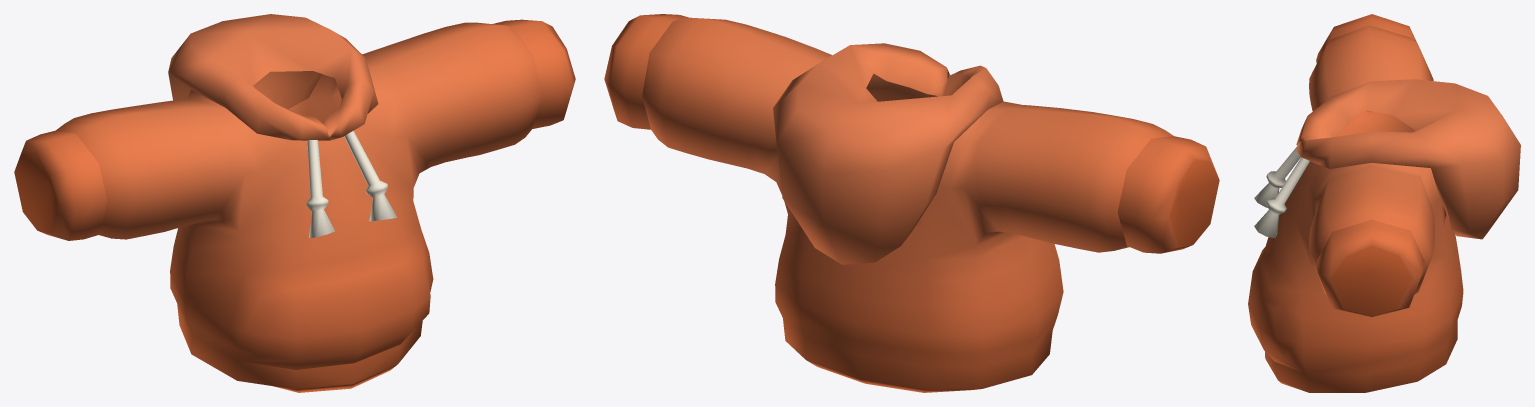
File: Top_30.fbx
The picture shows the model from 3 angles, left to right: view 1: azimuth 30°, elevation 25°; view 2: azimuth 150°, elevation 25°; view 3: azimuth 270°, elevation 25°; orthographic projection. The views are drawn at different scales.
Parts seen in each view (by area): view 1: Top_30; view 2: Top_30; view 3: Top_30.
Part boxes in pixels (x1,y1,x2,y2): Top_30: [14, 14, 575, 392]; Top_30: [604, 14, 1219, 392]; Top_30: [1248, 14, 1520, 392].
Size of the model in its own units: 99.63 by 52.57 by 50.2.
